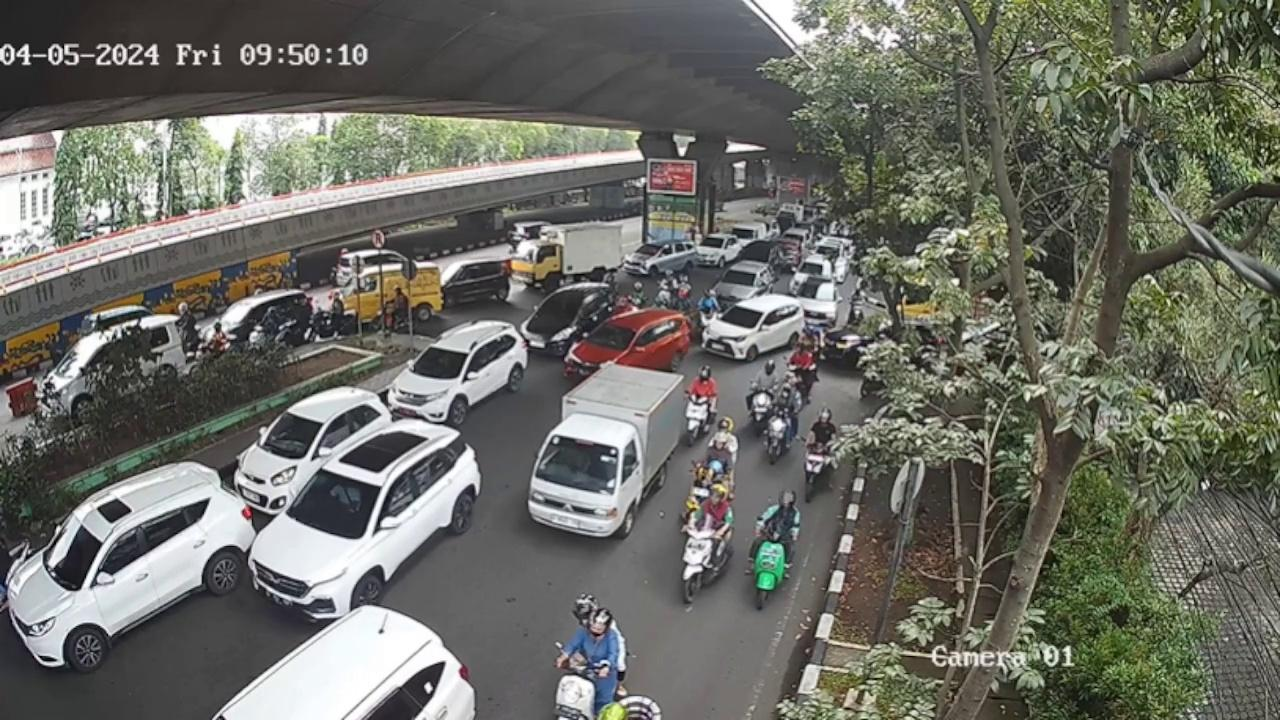pakai: (332, 484, 362, 516)
windshield: (533, 431, 623, 493), (292, 474, 375, 538), (262, 410, 329, 456), (406, 342, 473, 380)
